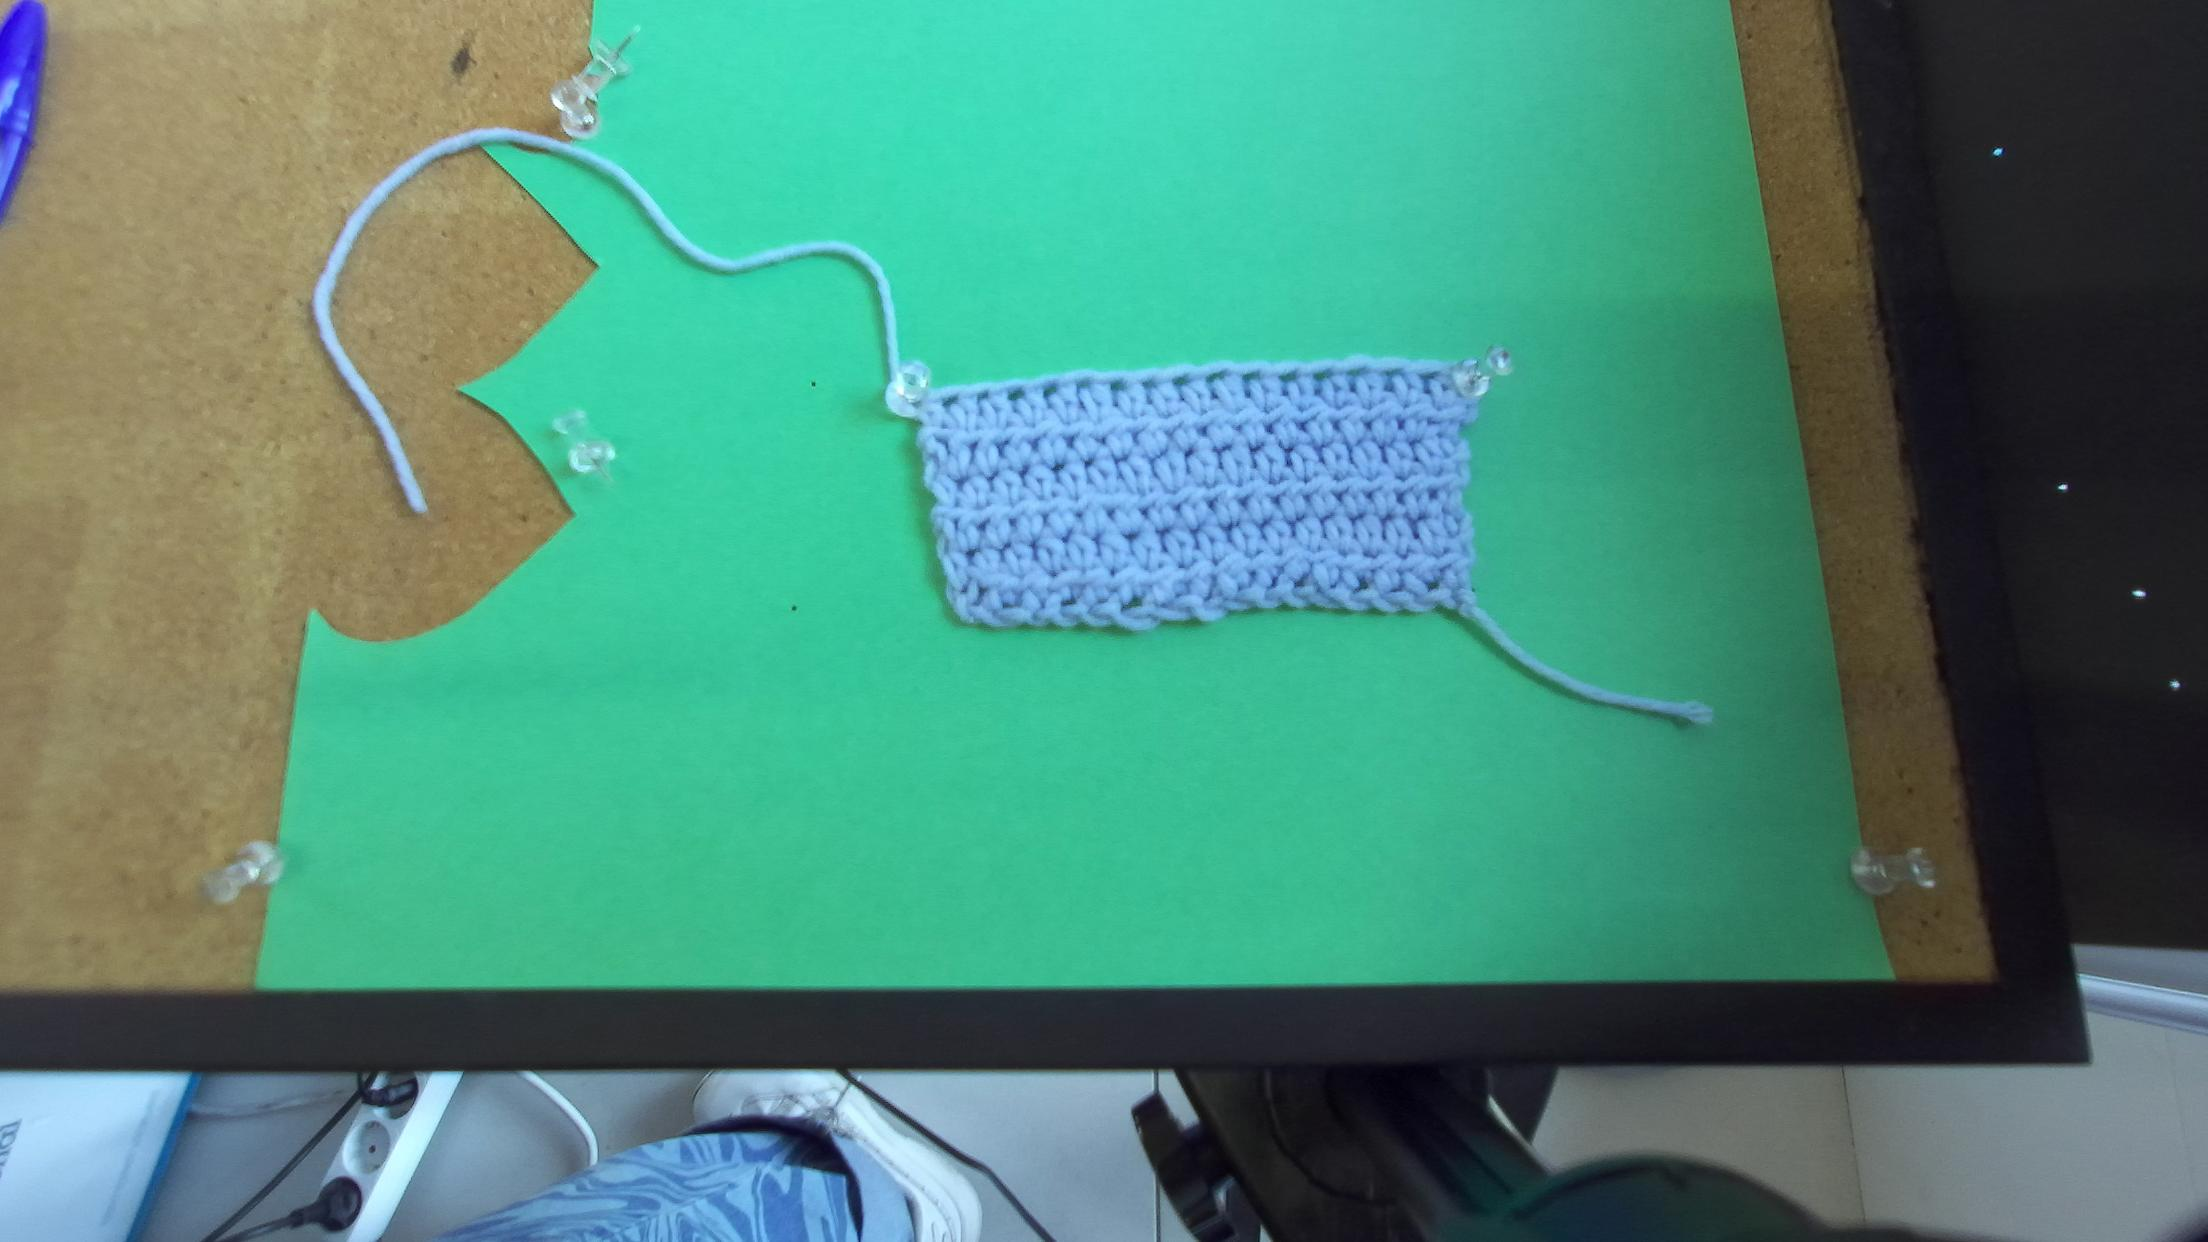hole: (1041, 384, 1059, 403), (1204, 371, 1227, 385), (1007, 388, 1026, 403), (975, 389, 990, 406), (1076, 378, 1091, 395), (1312, 369, 1333, 381), (941, 395, 957, 410), (1417, 372, 1441, 382), (1110, 379, 1127, 393), (1383, 367, 1404, 378), (1172, 376, 1190, 388), (1243, 371, 1259, 383), (1277, 373, 1296, 383), (1139, 378, 1156, 389), (1345, 368, 1363, 378)
swatch: (892, 361, 1502, 635)
